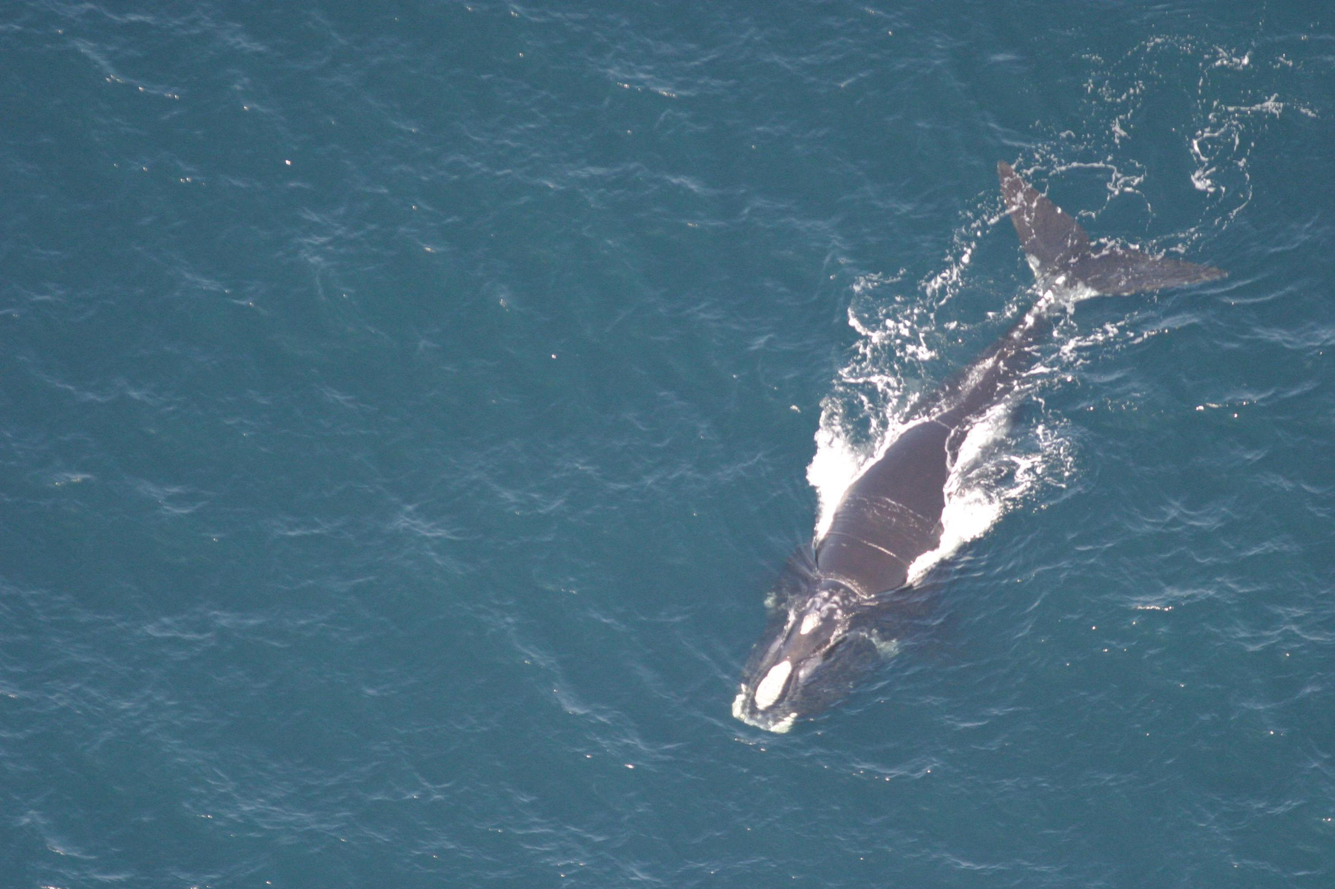whale: (722, 152, 1237, 747)
